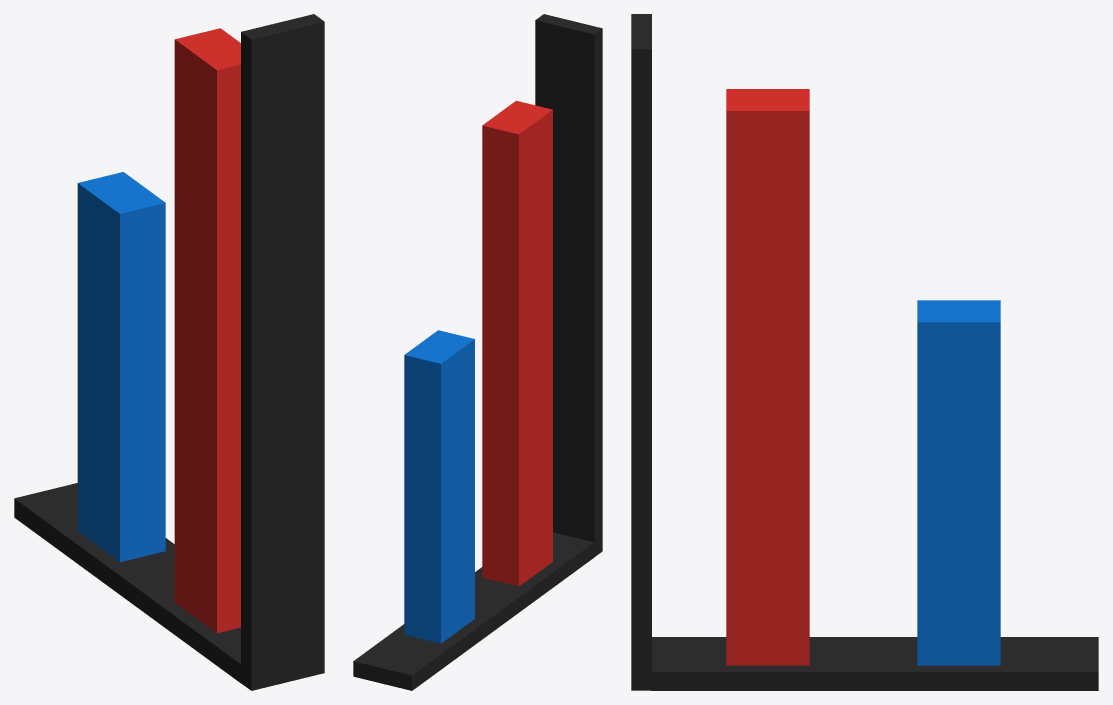
File: chartText.glb
3 renders of one model, left to right at view 1: azimuth 30°, elevation 25°; view 2: azimuth 150°, elevation 25°; view 3: azimuth 270°, elevation 25°, orthographic. The views are drawn at different scales.
Parts seen in each view (by area): view 1: 立方体.005, 立方体.006, 立方体.007, 立方体.004; view 2: 立方体.006, 立方体.005, 立方体.007, 立方体.004; view 3: 立方体.006, 立方体.007, 立方体.004, 立方体.005.
Part boxes in pixels (<box>): 立方体.005: <box>241,14,324,690</box>; 立方体.006: <box>174,28,240,633</box>; 立方体.007: <box>77,172,165,562</box>; 立方体.004: <box>14,483,241,683</box>; 立方体.006: <box>482,100,552,586</box>; 立方体.005: <box>535,14,602,556</box>; 立方体.007: <box>404,330,474,643</box>; 立方体.004: <box>353,532,594,690</box>; 立方体.006: <box>726,89,809,665</box>; 立方体.007: <box>917,300,1000,665</box>; 立方体.004: <box>651,637,1098,690</box>; 立方体.005: <box>631,14,651,690</box>.
Size of the model in its own units: 0.8 by 6.8 by 4.49.
